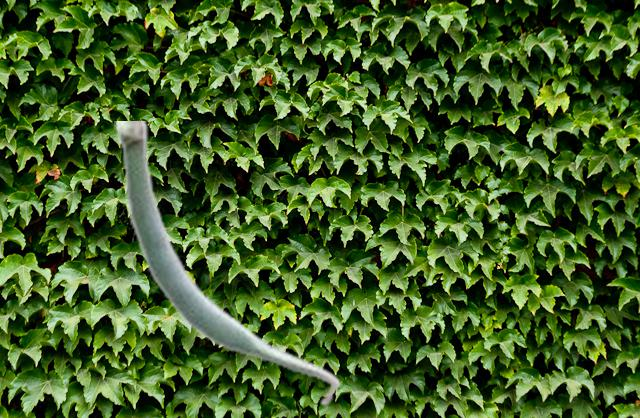french_bean: (114, 121, 340, 407)
